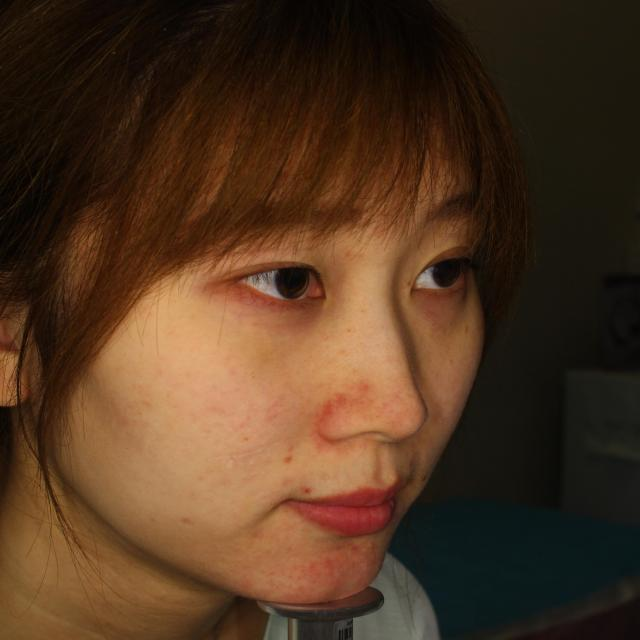comedone: (320, 392, 350, 422), (358, 380, 374, 398)
